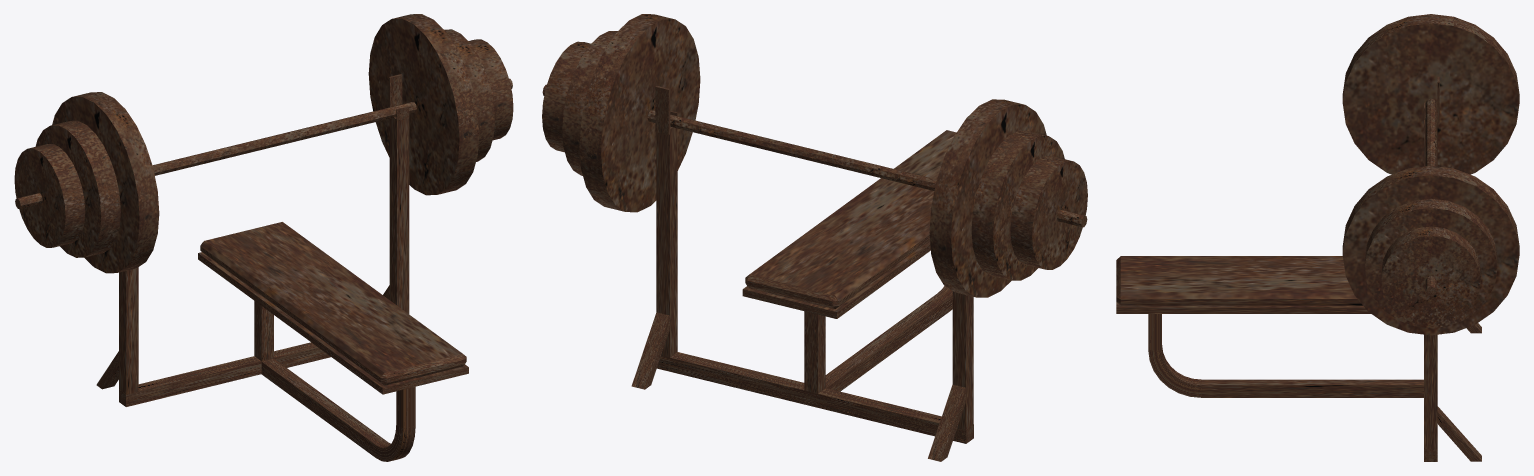
The model's file is bench-press.fbx.
3 renders of one model, left to right at view 1: azimuth 30°, elevation 25°; view 2: azimuth 150°, elevation 25°; view 3: azimuth 270°, elevation 25°, orthographic. The views are drawn at different scales.
Parts seen in each view (by area): view 1: padding, weight1, weight, weight5, weight2, support_lower_main, support_left, support_lower, bar, support, support_right, weight3 (+2 smaller); view 2: weight1, padding, weight, weight5, weight2, support_lower, support_left, bar, support_lower_main, weight3, support_right, weight4 (+5 smaller); view 3: weight, padding, weight1, weight4, weight3, support_lower_main, support, support_left, bar, support_left_lower.
Part boxes in pixels (x1,y1,x2,y2): padding: (200, 222, 466, 385); weight1: (368, 14, 479, 195); weight: (52, 92, 159, 273); weight5: (14, 144, 85, 247); weight2: (35, 120, 120, 257); support_lower_main: (261, 358, 415, 461); support_left: (389, 117, 409, 313); support_lower: (119, 342, 330, 406); bar: (15, 78, 512, 208); support: (198, 252, 468, 394); support_right: (119, 267, 138, 394); weight3: (444, 29, 494, 161); weight1: (579, 14, 700, 212); padding: (745, 130, 956, 309); weight: (929, 99, 1046, 297); weight5: (1010, 156, 1087, 269); weight2: (971, 130, 1064, 280); support_lower: (657, 352, 973, 443); support_left: (656, 126, 677, 357); bar: (542, 84, 1087, 227); support_lower_main: (825, 286, 952, 391); weight3: (562, 31, 617, 175); support_right: (952, 291, 973, 430); weight4: (542, 41, 590, 152); weight: (1342, 14, 1519, 174); padding: (1116, 256, 1362, 305); weight1: (1342, 166, 1519, 335); weight4: (1381, 226, 1480, 325); weight3: (1365, 198, 1497, 328); support_lower_main: (1148, 314, 1423, 397); support: (1116, 302, 1370, 313); support_left: (1424, 334, 1437, 449); bar: (1425, 98, 1436, 296); support_left_lower: (1437, 406, 1481, 461).
Size of the model in its own units: 500 by 300 by 365.
